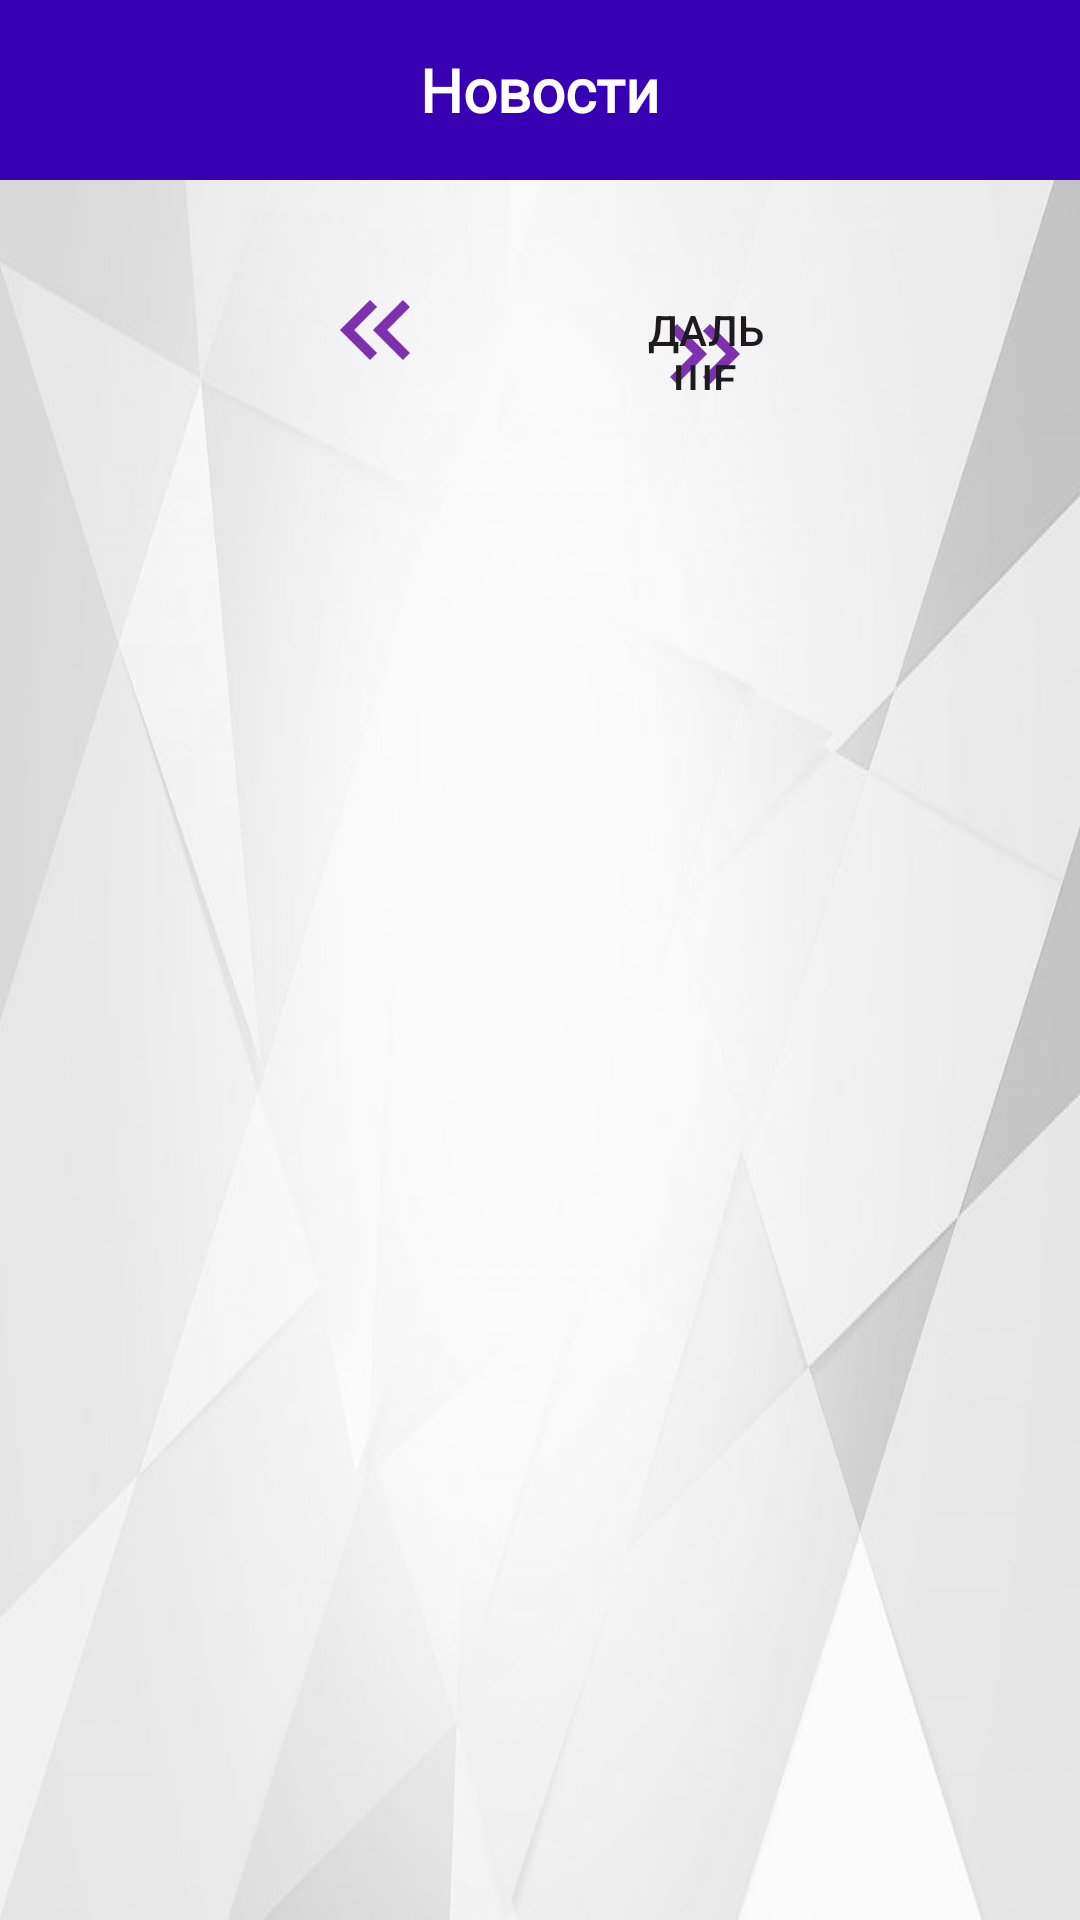

Screen size 1080x1920. Icon name, then its center in pixels as (x=x, y=y):
keyboard double arrow left: (x=375, y=330)
